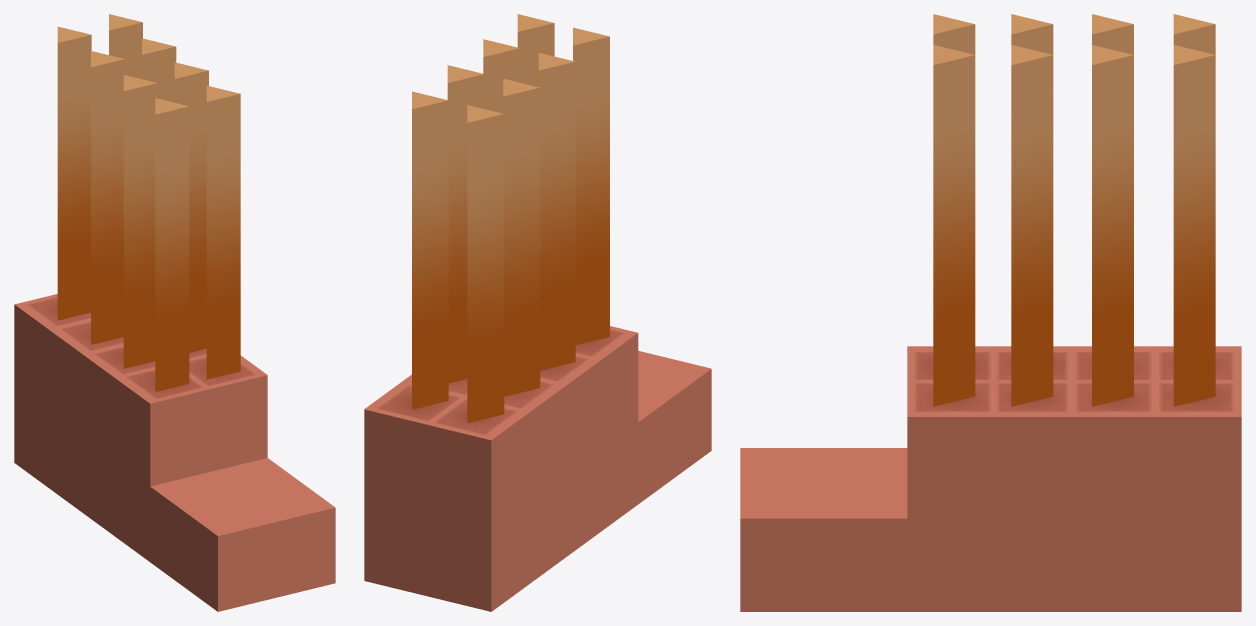
File: PowerConnectors5.fbx
The picture shows the model from 3 angles, left to right: view 1: azimuth 30°, elevation 25°; view 2: azimuth 150°, elevation 25°; view 3: azimuth 270°, elevation 25°; orthographic projection. The views are drawn at different scales.
Parts seen in each view (by area): view 1: PowerConnectors5; view 2: PowerConnectors5; view 3: PowerConnectors5.
Boxes of the visible parts, x1,y1,x2,y2 form: PowerConnectors5: (14, 14, 335, 611); PowerConnectors5: (364, 14, 711, 611); PowerConnectors5: (740, 14, 1241, 611).
Size of the model in its own units: 0.5 by 1.77 by 1.5.
